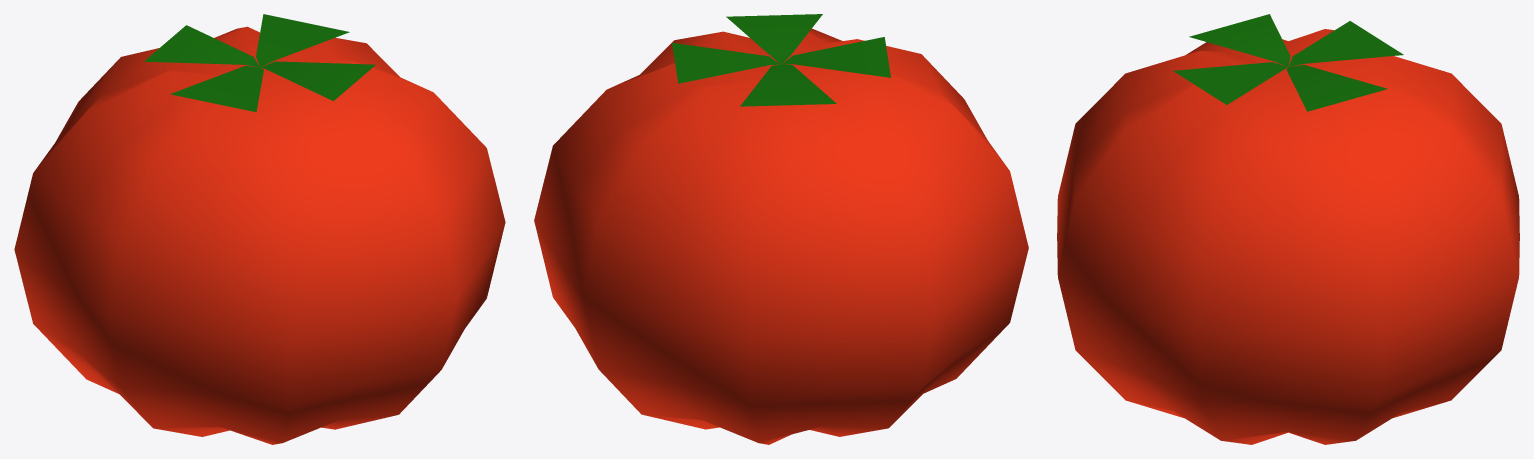
The model's file is tomato.glb.
The picture shows the model from 3 angles, left to right: view 1: azimuth 30°, elevation 25°; view 2: azimuth 150°, elevation 25°; view 3: azimuth 270°, elevation 25°; orthographic projection.
Visible parts, largest first — view 1: Sphere; view 2: Sphere; view 3: Sphere.
Part boxes in pixels (<box>): Sphere: <box>14,14,505,444</box>; Sphere: <box>534,14,1028,444</box>; Sphere: <box>1057,14,1519,444</box>.
Bounding box in the file's own units: 0.0901 × 0.074 × 0.0901.
Materials: 1 (1 with a texture image).
